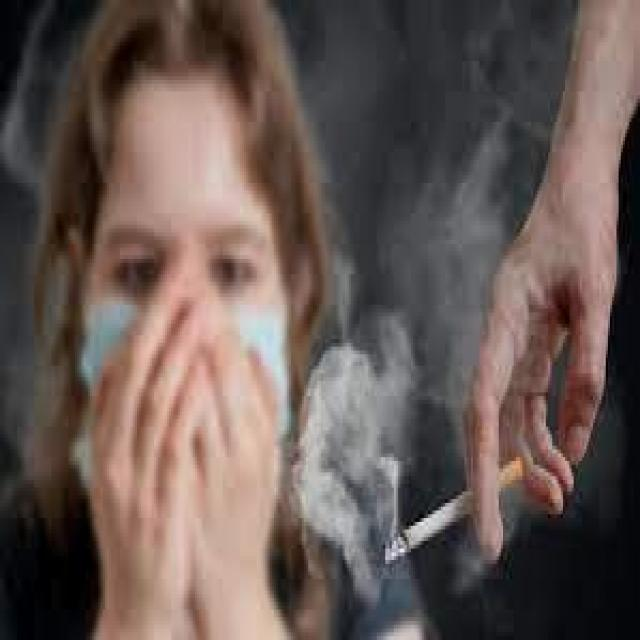cigarette: (379, 446, 524, 568)
